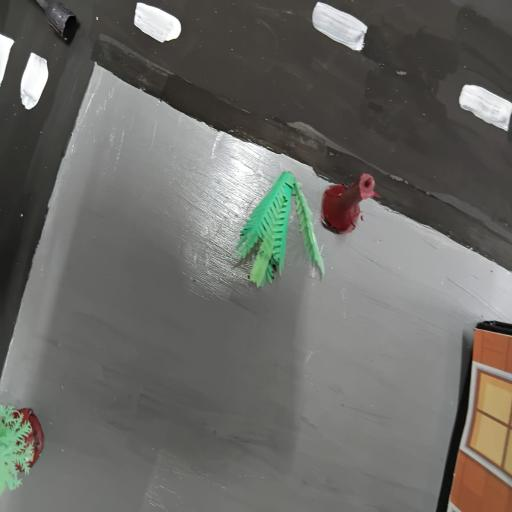fallen trees: (234, 146, 385, 310), (29, 0, 90, 51)
